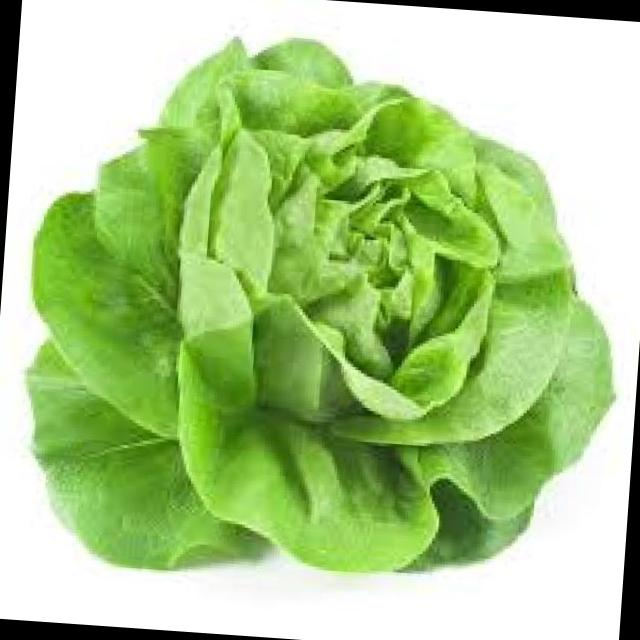Lettuce-Ready-to-Harvest: (30, 40, 608, 570)
